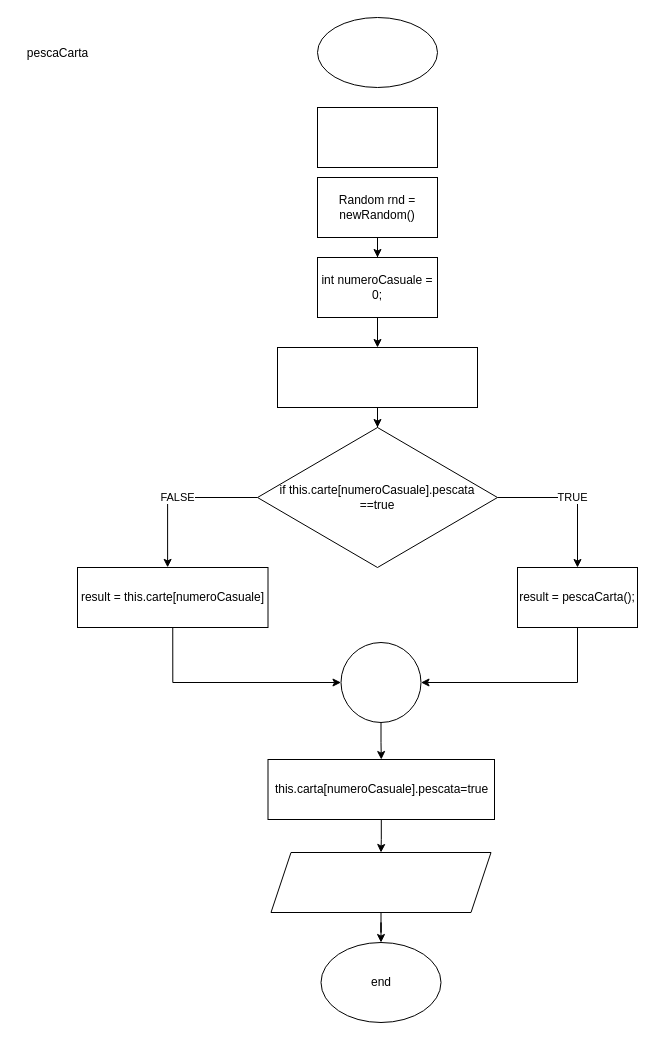
Some shapes in this 655 by 1040 pixel diagram are drawn without their labels. The shapes that lost their labels are listed below. From the top down, each one's centre as x and y in pixels, then its label:
At (x=377, y=52): "Start".
At (x=377, y=137): "Carta result ;".
At (x=377, y=377): "numeroCasuale =rnd.nextInt(0,mazzo.length-1)".
At (x=380, y=882): "return result".
